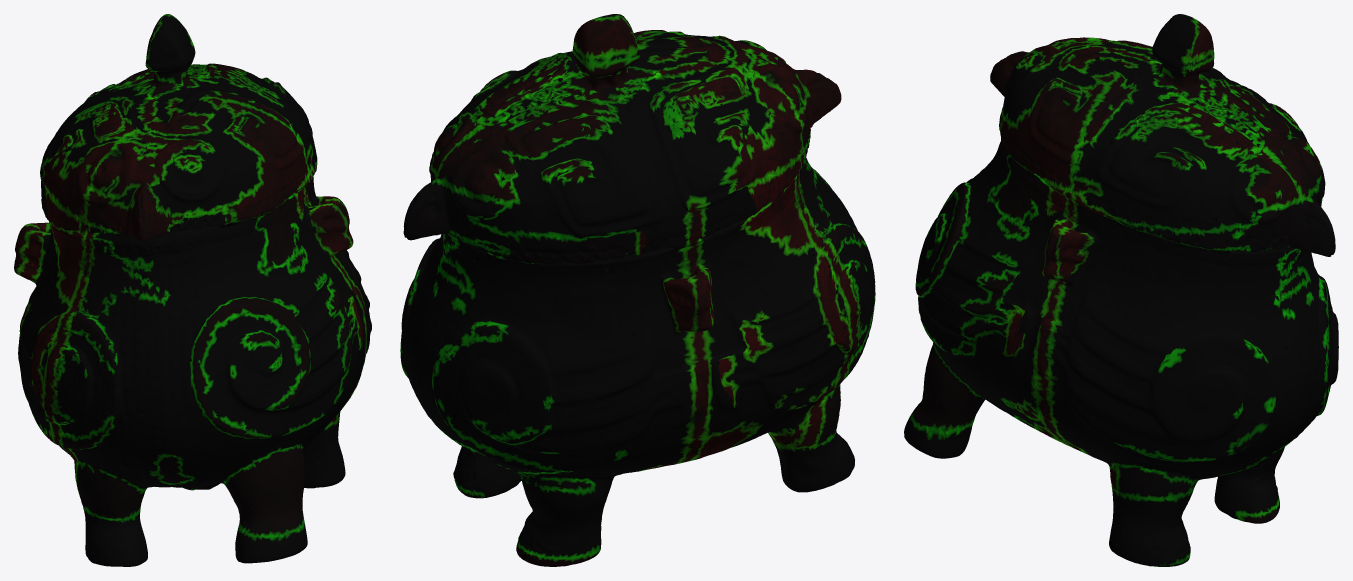
The picture shows the model from 3 angles, left to right: view 1: azimuth 30°, elevation 25°; view 2: azimuth 150°, elevation 25°; view 3: azimuth 270°, elevation 25°; orthographic projection. The views are drawn at different scales.
Visible parts, largest first — view 1: double_owl_you; view 2: double_owl_you; view 3: double_owl_you.
Part boxes in pixels (left/top/right/bottom): double_owl_you: left=14, top=14, right=371, bottom=566; double_owl_you: left=400, top=14, right=875, bottom=566; double_owl_you: left=904, top=14, right=1338, bottom=566.
Size of the model in its own units: 4.07 by 5.4 by 4.38.
Materials: 1 (1 with a texture image).
